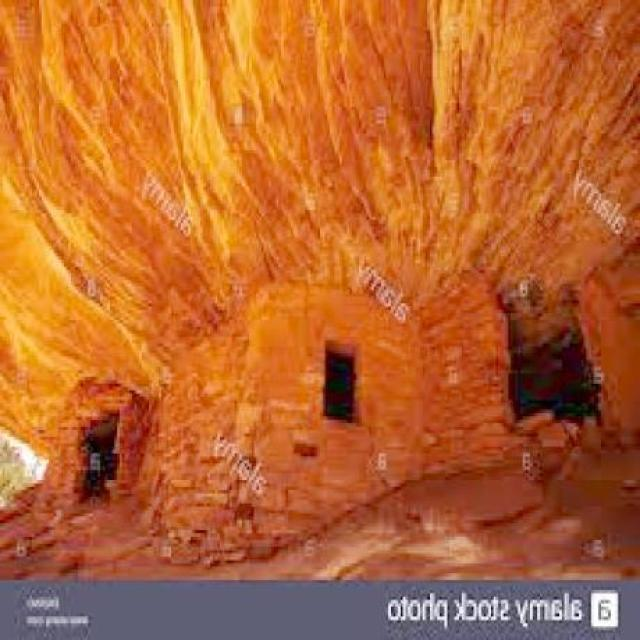Fire: (0, 1, 640, 456)
